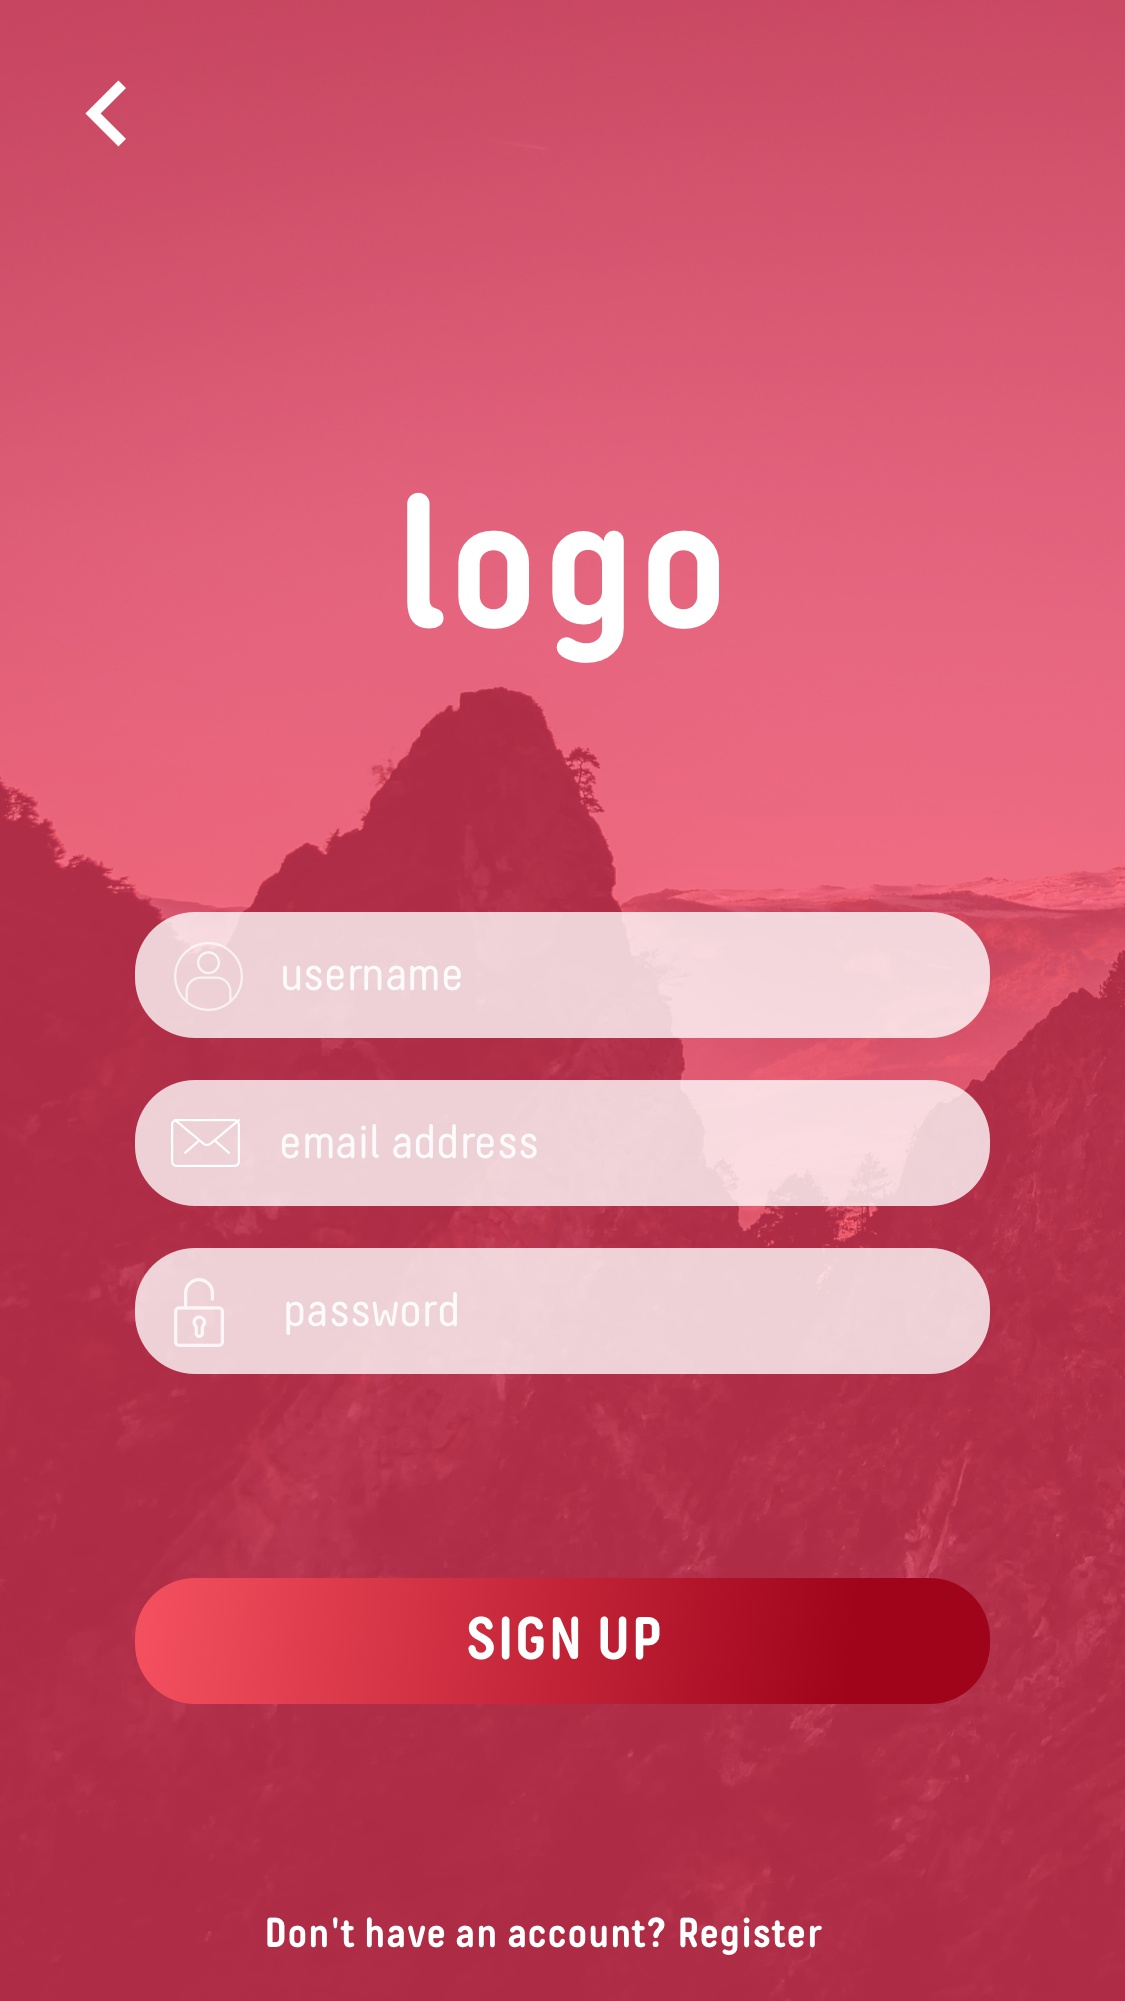BackgroundImage: (1, 1, 1125, 2001)
EditText: (135, 913, 990, 1039), (135, 1080, 990, 1207), (135, 1248, 990, 1374)
Icon: (174, 941, 245, 1011), (174, 1277, 227, 1348), (170, 1119, 240, 1168), (85, 81, 126, 148)
Text: (407, 492, 721, 667), (266, 1914, 823, 1957), (282, 1124, 538, 1160), (286, 1292, 457, 1336), (283, 965, 462, 992)
TextButton: (135, 1578, 990, 1706)
